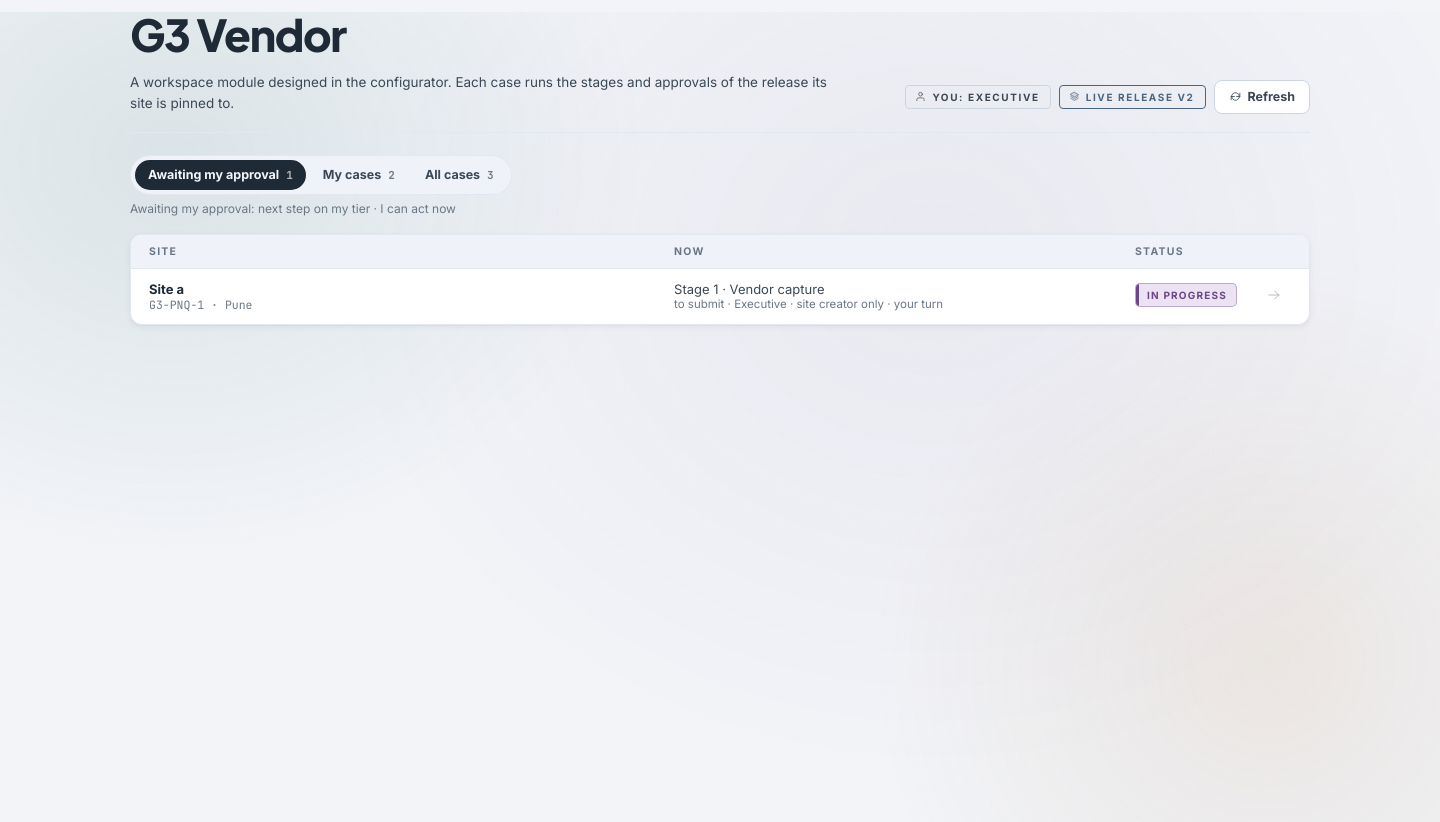
Scenario: GenericModulePage — saved views › shows the role’s views, applies the selected one server-side and uses its columns
The width and height of the screenshot is (1440, 822).
Expected: the tab "All cases 3" is shown, [412, 160, 507, 190]
Expected: the text with test id "view-description" shows "next step on my tier · I can act now", [258, 201, 456, 216]
Click the tab "My cases 2" at (359, 175), box [310, 160, 408, 190]
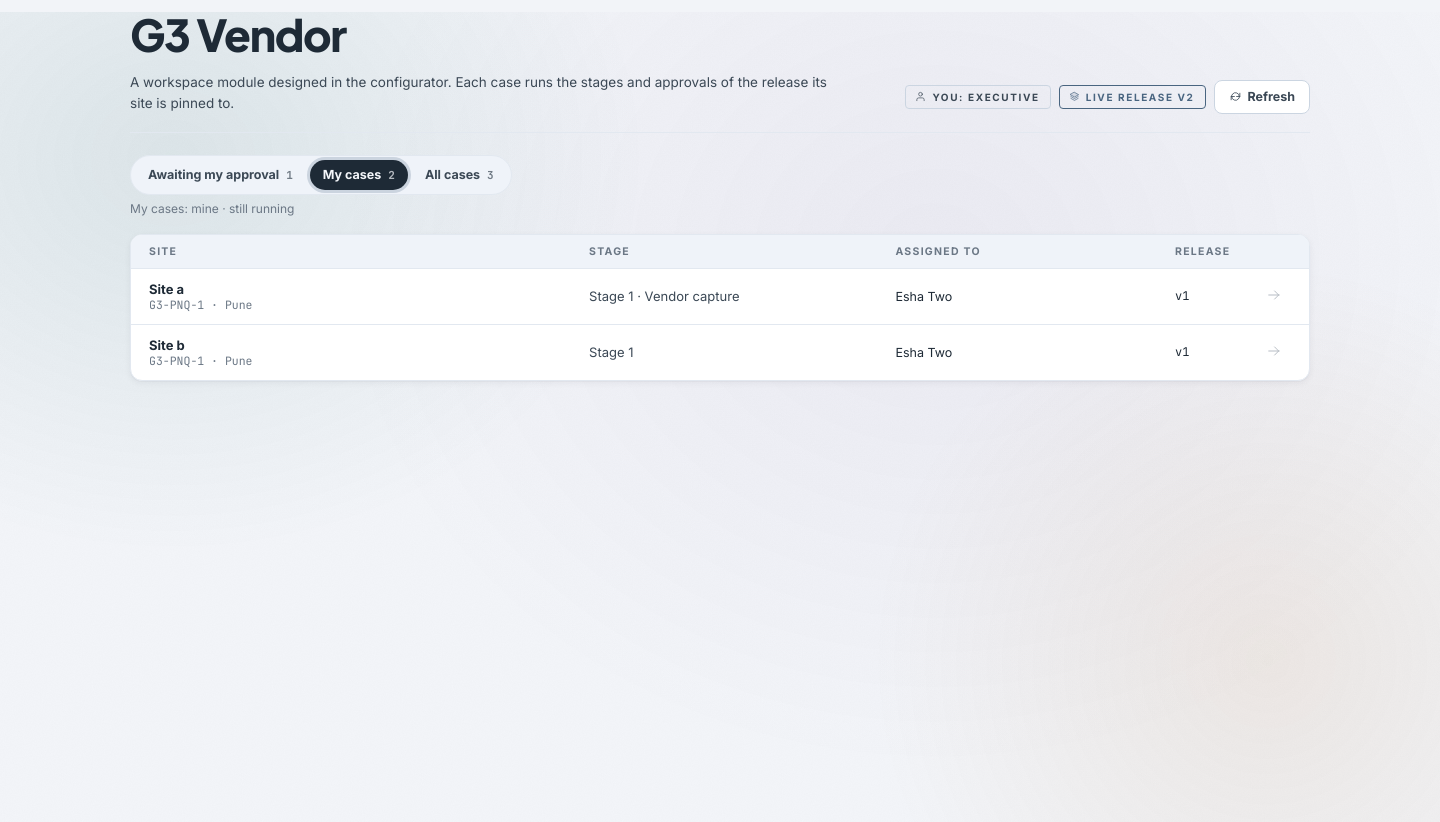
Now the column headings read "Site", "Stage", "Assigned to", "Release", in this order, box [149, 245, 177, 258]; [589, 245, 630, 258]; [895, 245, 981, 258]; [1175, 245, 1230, 258]
Now the text "Esha Two" is shown 2 times, box [895, 289, 952, 304]; [895, 345, 952, 360]
